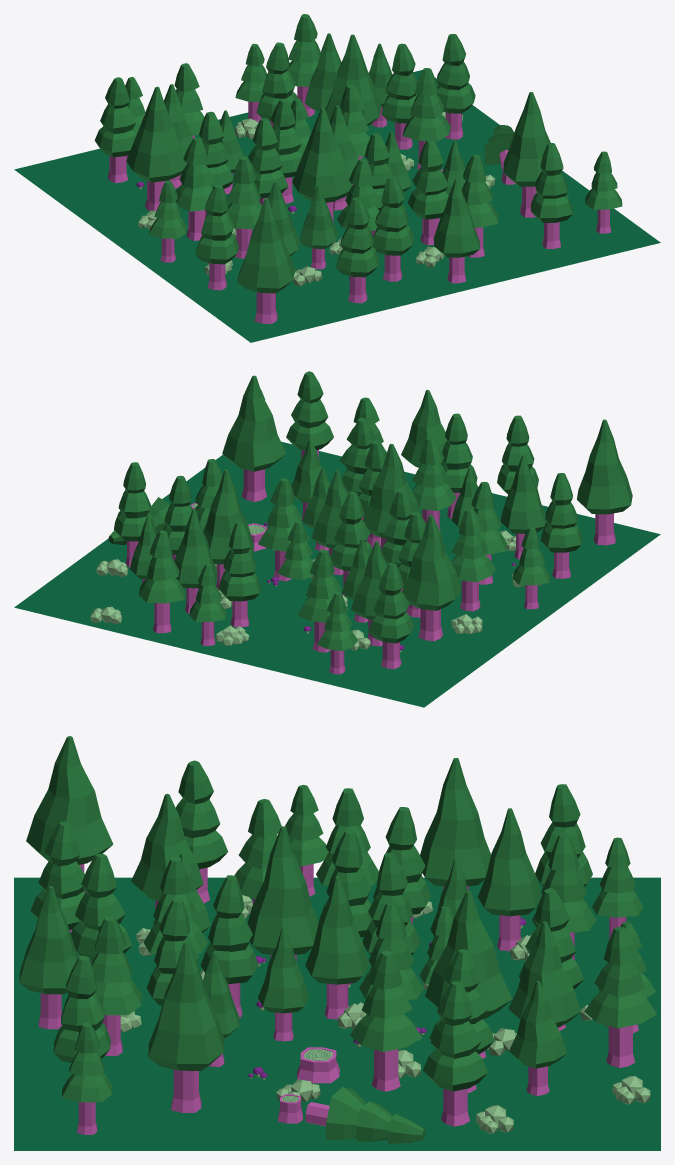
The model's file is ForestScene.glb.
3 renders of one model, top to bottom at view 1: azimuth 30°, elevation 25°; view 2: azimuth 150°, elevation 25°; view 3: azimuth 270°, elevation 25°, orthographic. The views are drawn at different scales.
Visible parts, largest first — view 1: Plane, Branches.007, Branches.013, Branches.002, Branches.025, Branches.024, Branches.015, Branches.016, Branches.028, Branches.017, Branches.010, Branches.005 (+31 smaller); view 2: Plane, Branches.025, Branches.007, Branches.013, Branches.010, Branches.028, Branches.019, Branches.002, Branches.016, Branches.022, Branches.012, Cube.011 (+32 smaller); view 3: Plane, Branches.025, Branches.007, Branches.002, Branches.013, Branches.023, Branches.019, Cube.011, Cube.010, Branches, Branches.006, Branches.024 (+37 smaller).
Boxes of the visible parts, x1,y1,x2,y2 form: Plane: (14,70,660,342); Branches.007: (126,86,186,182); Branches.013: (237,198,295,293); Branches.002: (292,108,352,202); Branches.025: (503,92,550,186); Branches.024: (433,178,479,257); Branches.015: (336,197,379,277); Branches.016: (195,184,238,264); Branches.028: (531,143,572,222); Branches.017: (372,176,414,255); Branches.010: (94,77,136,157); Branches.005: (407,139,448,219); Plane: (14,441,660,707); Branches.025: (222,375,286,471); Branches.007: (402,515,461,610); Branches.013: (577,419,632,514); Branches.010: (368,563,414,643); Branches.028: (286,371,333,450); Branches.019: (203,469,254,564); Branches.002: (362,444,421,538); Branches.016: (540,473,582,552); Branches.022: (219,521,260,601); Branches.012: (500,454,546,533); Cube.011: (139,530,185,603); Plane: (14,877,660,1150); Branches.025: (148,941,224,1070); Branches.007: (420,758,490,886); Branches.002: (247,826,318,954); Branches.013: (26,736,113,864); Branches.023: (423,981,487,1091); Branches.019: (425,891,512,1018); Cube.011: (584,926,656,1028); Cube.010: (350,950,422,1051); Branches: (305,876,369,984); Branches.006: (478,808,541,916); Branches.024: (19,886,78,994).
Size of the model in its own units: 60 by 18.74 by 60.
